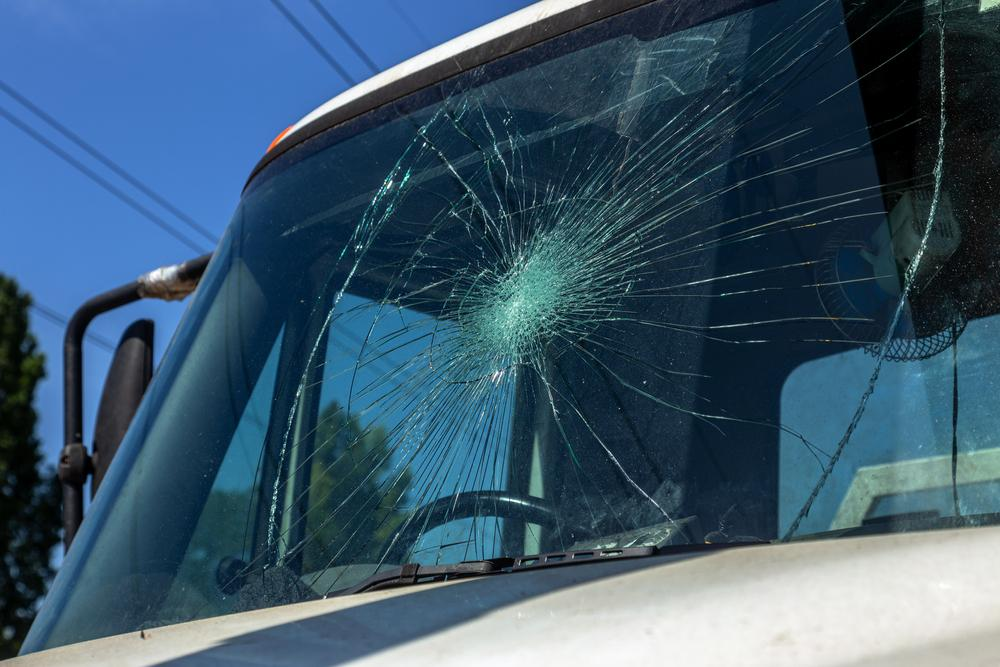glass shatter: (17, 0, 1000, 656)
